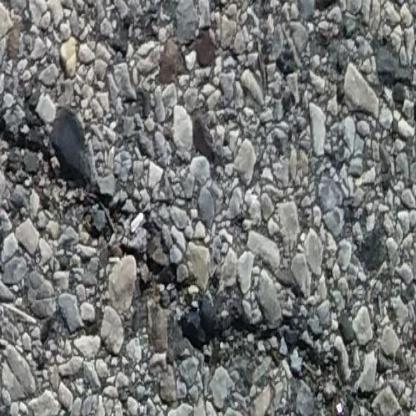Cracks: (0, 68, 416, 416)
